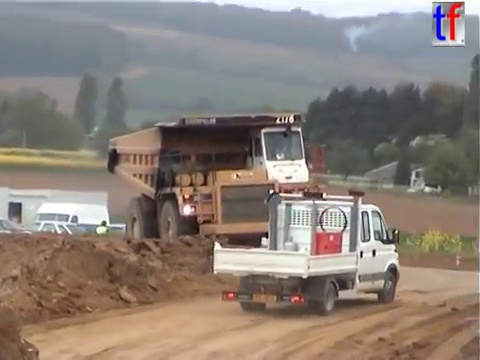truck: (105, 110, 328, 265), (210, 187, 402, 317)
worker: (94, 219, 111, 254)
